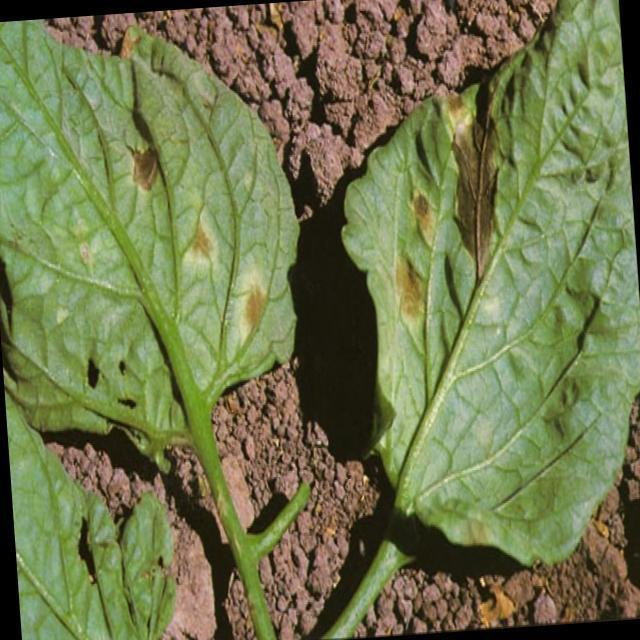Mosaic Virus: (376, 83, 540, 370), (122, 123, 277, 360)
